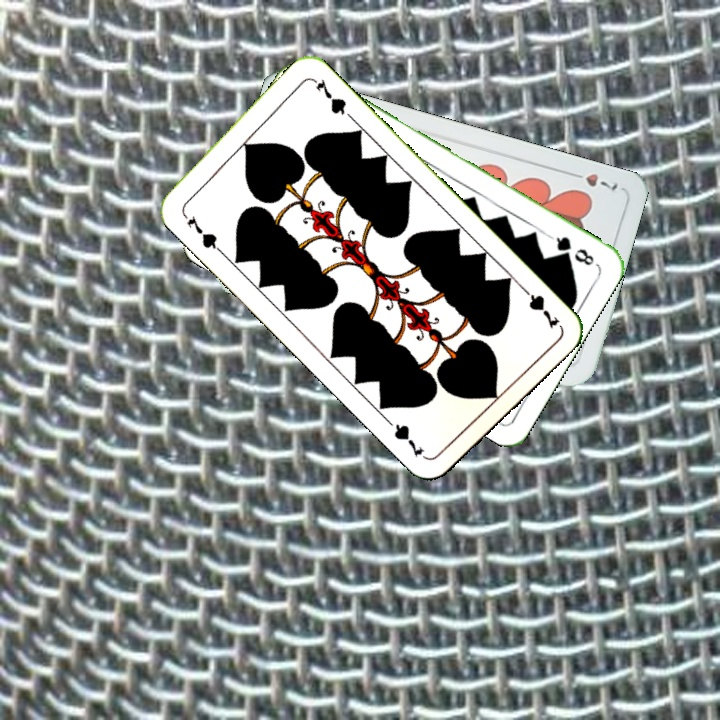G7: (515, 281, 563, 332), (178, 208, 224, 255)
G8: (546, 232, 597, 268)
H7: (564, 168, 621, 194)
